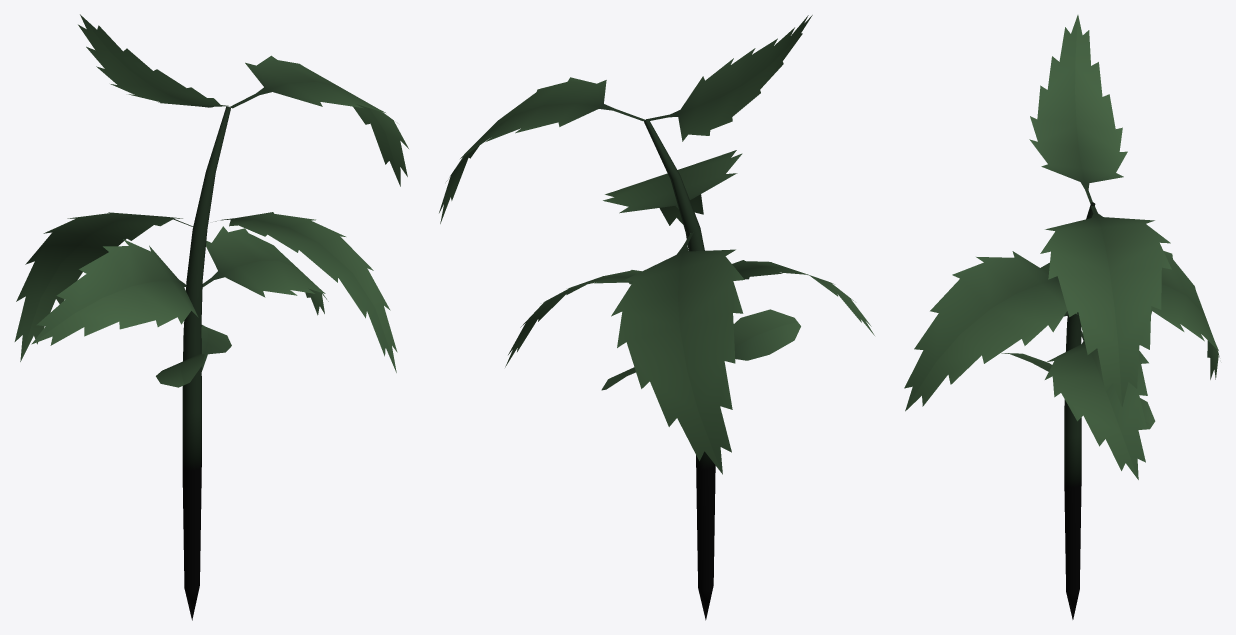
File: trees-plants-saplings-tree-sapling_v3.glb
3 renders of one model, left to right at view 1: azimuth 30°, elevation 25°; view 2: azimuth 150°, elevation 25°; view 3: azimuth 270°, elevation 25°, orthographic. The views are drawn at different scales.
Parts seen in each view (by area): view 1: Tree Sapling_v3; view 2: Tree Sapling_v3; view 3: Tree Sapling_v3.
Boxes of the visible parts, left/top/right/bottom form: Tree Sapling_v3: left=14, top=14, right=408, bottom=620; Tree Sapling_v3: left=439, top=15, right=874, bottom=620; Tree Sapling_v3: left=904, top=15, right=1219, bottom=619.
Size of the model in its own units: 0.6645 by 1 by 0.5149.
